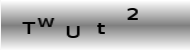2: (124, 6, 139, 21)
T: (19, 20, 36, 35)
U: (64, 24, 81, 39)
t: (95, 21, 106, 35)
w: (37, 16, 55, 28)
